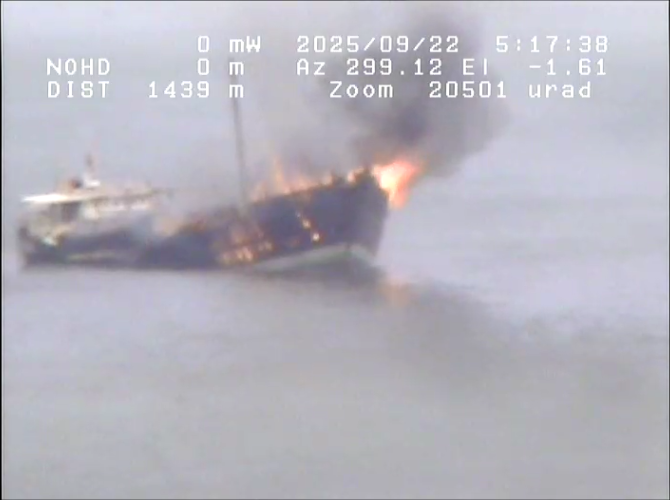FIRE_ONBOARD: (3, 59, 487, 350)
FISHING_VESSEL: (1, 94, 440, 311)
